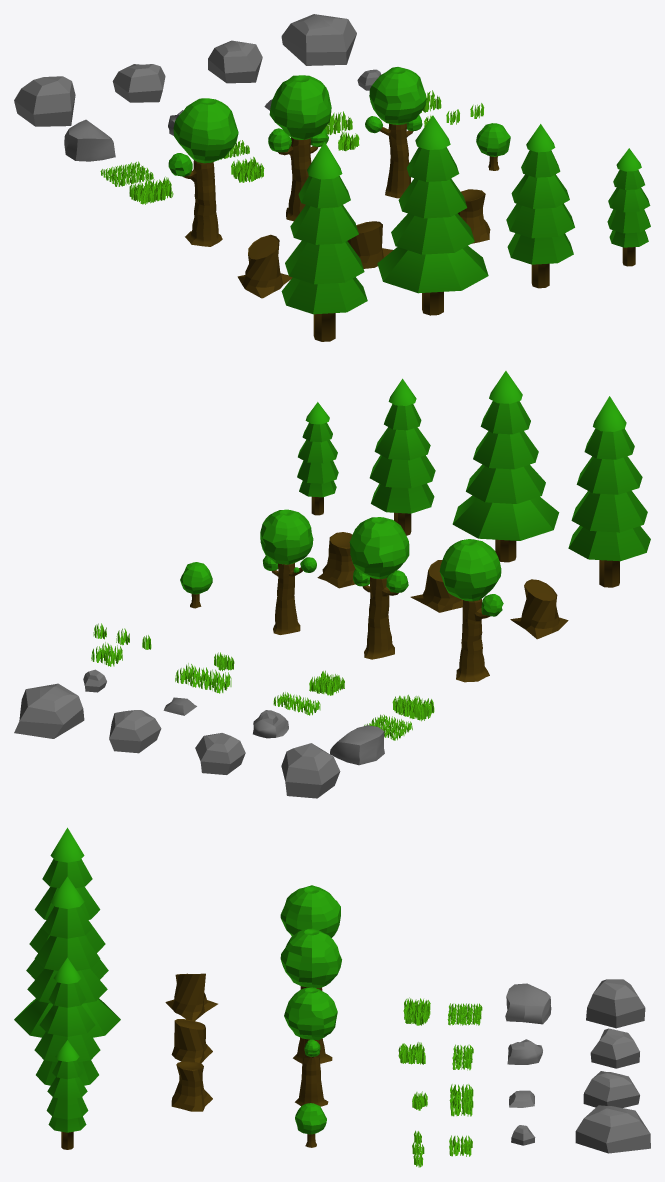
Rendered from Enviroment_Steve.fbx.
3 views of the same model, one above another, from view 1: azimuth 30°, elevation 25°; view 2: azimuth 150°, elevation 25°; view 3: azimuth 270°, elevation 25° (orthographic). The views are drawn at different scales.
Visible parts, largest first — view 1: Tree_Pine_03, Tree_Pine_04, Tree_Pine_02, Tree_Normal_04, Tree_Normal_03, Tree_Normal_02, Tree_Pine_01, Rock_Large_03, Rock_Large_01, Tree_Stump_03, Rock_Large_02, Rock_Medium_02 (+7 smaller); view 2: Tree_Pine_03, Tree_Pine_04, Tree_Pine_02, Tree_Normal_03, Tree_Normal_04, Tree_Normal_02, Tree_Pine_01, Rock_Large_03, Rock_Large_01, Tree_Stump_03, Rock_Large_02, Rock_Medium_02 (+10 smaller); view 3: Tree_Pine_03, Tree_Pine_02, Tree_Normal_02, Tree_Pine_04, Tree_Normal_03, Tree_Pine_01, Rock_Large_03, Tree_Normal_04, Rock_Large_01, Rock_Large_02, Rock_Medium_01, Tree_Stump_03 (+9 smaller).
Part boxes in pixels (left/top/right/bottom): Tree_Pine_03: left=377, top=115, right=488, bottom=315; Tree_Pine_04: left=281, top=142, right=367, bottom=341; Tree_Pine_02: left=506, top=124, right=574, bottom=288; Tree_Normal_04: left=168, top=98, right=238, bottom=246; Tree_Normal_03: left=268, top=75, right=331, bottom=221; Tree_Normal_02: left=365, top=67, right=426, bottom=198; Tree_Pine_01: left=607, top=148, right=650, bottom=266; Rock_Large_03: left=281, top=14, right=356, bottom=65; Rock_Large_01: left=14, top=76, right=75, bottom=126; Tree_Stump_03: left=237, top=234, right=292, bottom=298; Rock_Large_02: left=208, top=40, right=262, bottom=83; Rock_Medium_02: left=112, top=64, right=165, bottom=102; Tree_Pine_03: left=452, top=371, right=559, bottom=562; Tree_Pine_04: left=568, top=396, right=650, bottom=587; Tree_Pine_02: left=369, top=378, right=435, bottom=535; Tree_Normal_03: left=349, top=517, right=409, bottom=659; Tree_Normal_04: left=439, top=539, right=503, bottom=682; Tree_Normal_02: left=260, top=509, right=316, bottom=634; Tree_Pine_01: left=297, top=402, right=338, bottom=515; Rock_Large_03: left=14, top=683, right=84, bottom=738; Rock_Large_01: left=281, top=743, right=340, bottom=798; Tree_Stump_03: left=510, top=579, right=568, bottom=639; Rock_Large_02: left=109, top=710, right=161, bottom=753; Rock_Medium_02: left=195, top=733, right=245, bottom=774; Tree_Pine_03: left=14, top=876, right=120, bottom=1037; Tree_Pine_02: left=34, top=957, right=100, bottom=1085; Tree_Normal_02: left=284, top=987, right=337, bottom=1106; Tree_Pine_04: left=26, top=827, right=108, bottom=979; Tree_Normal_03: left=280, top=928, right=341, bottom=1063; Tree_Pine_01: left=46, top=1040, right=88, bottom=1149; Rock_Large_03: left=575, top=1105, right=650, bottom=1153; Tree_Normal_04: left=280, top=885, right=340, bottom=990; Rock_Large_01: left=586, top=979, right=645, bottom=1028; Rock_Large_02: left=583, top=1071, right=639, bottom=1107; Rock_Medium_01: left=505, top=983, right=551, bottom=1024; Tree_Stump_03: left=165, top=973, right=217, bottom=1020.
Bounding box in the file's own units: 39.47 × 19.18 × 60.64.
